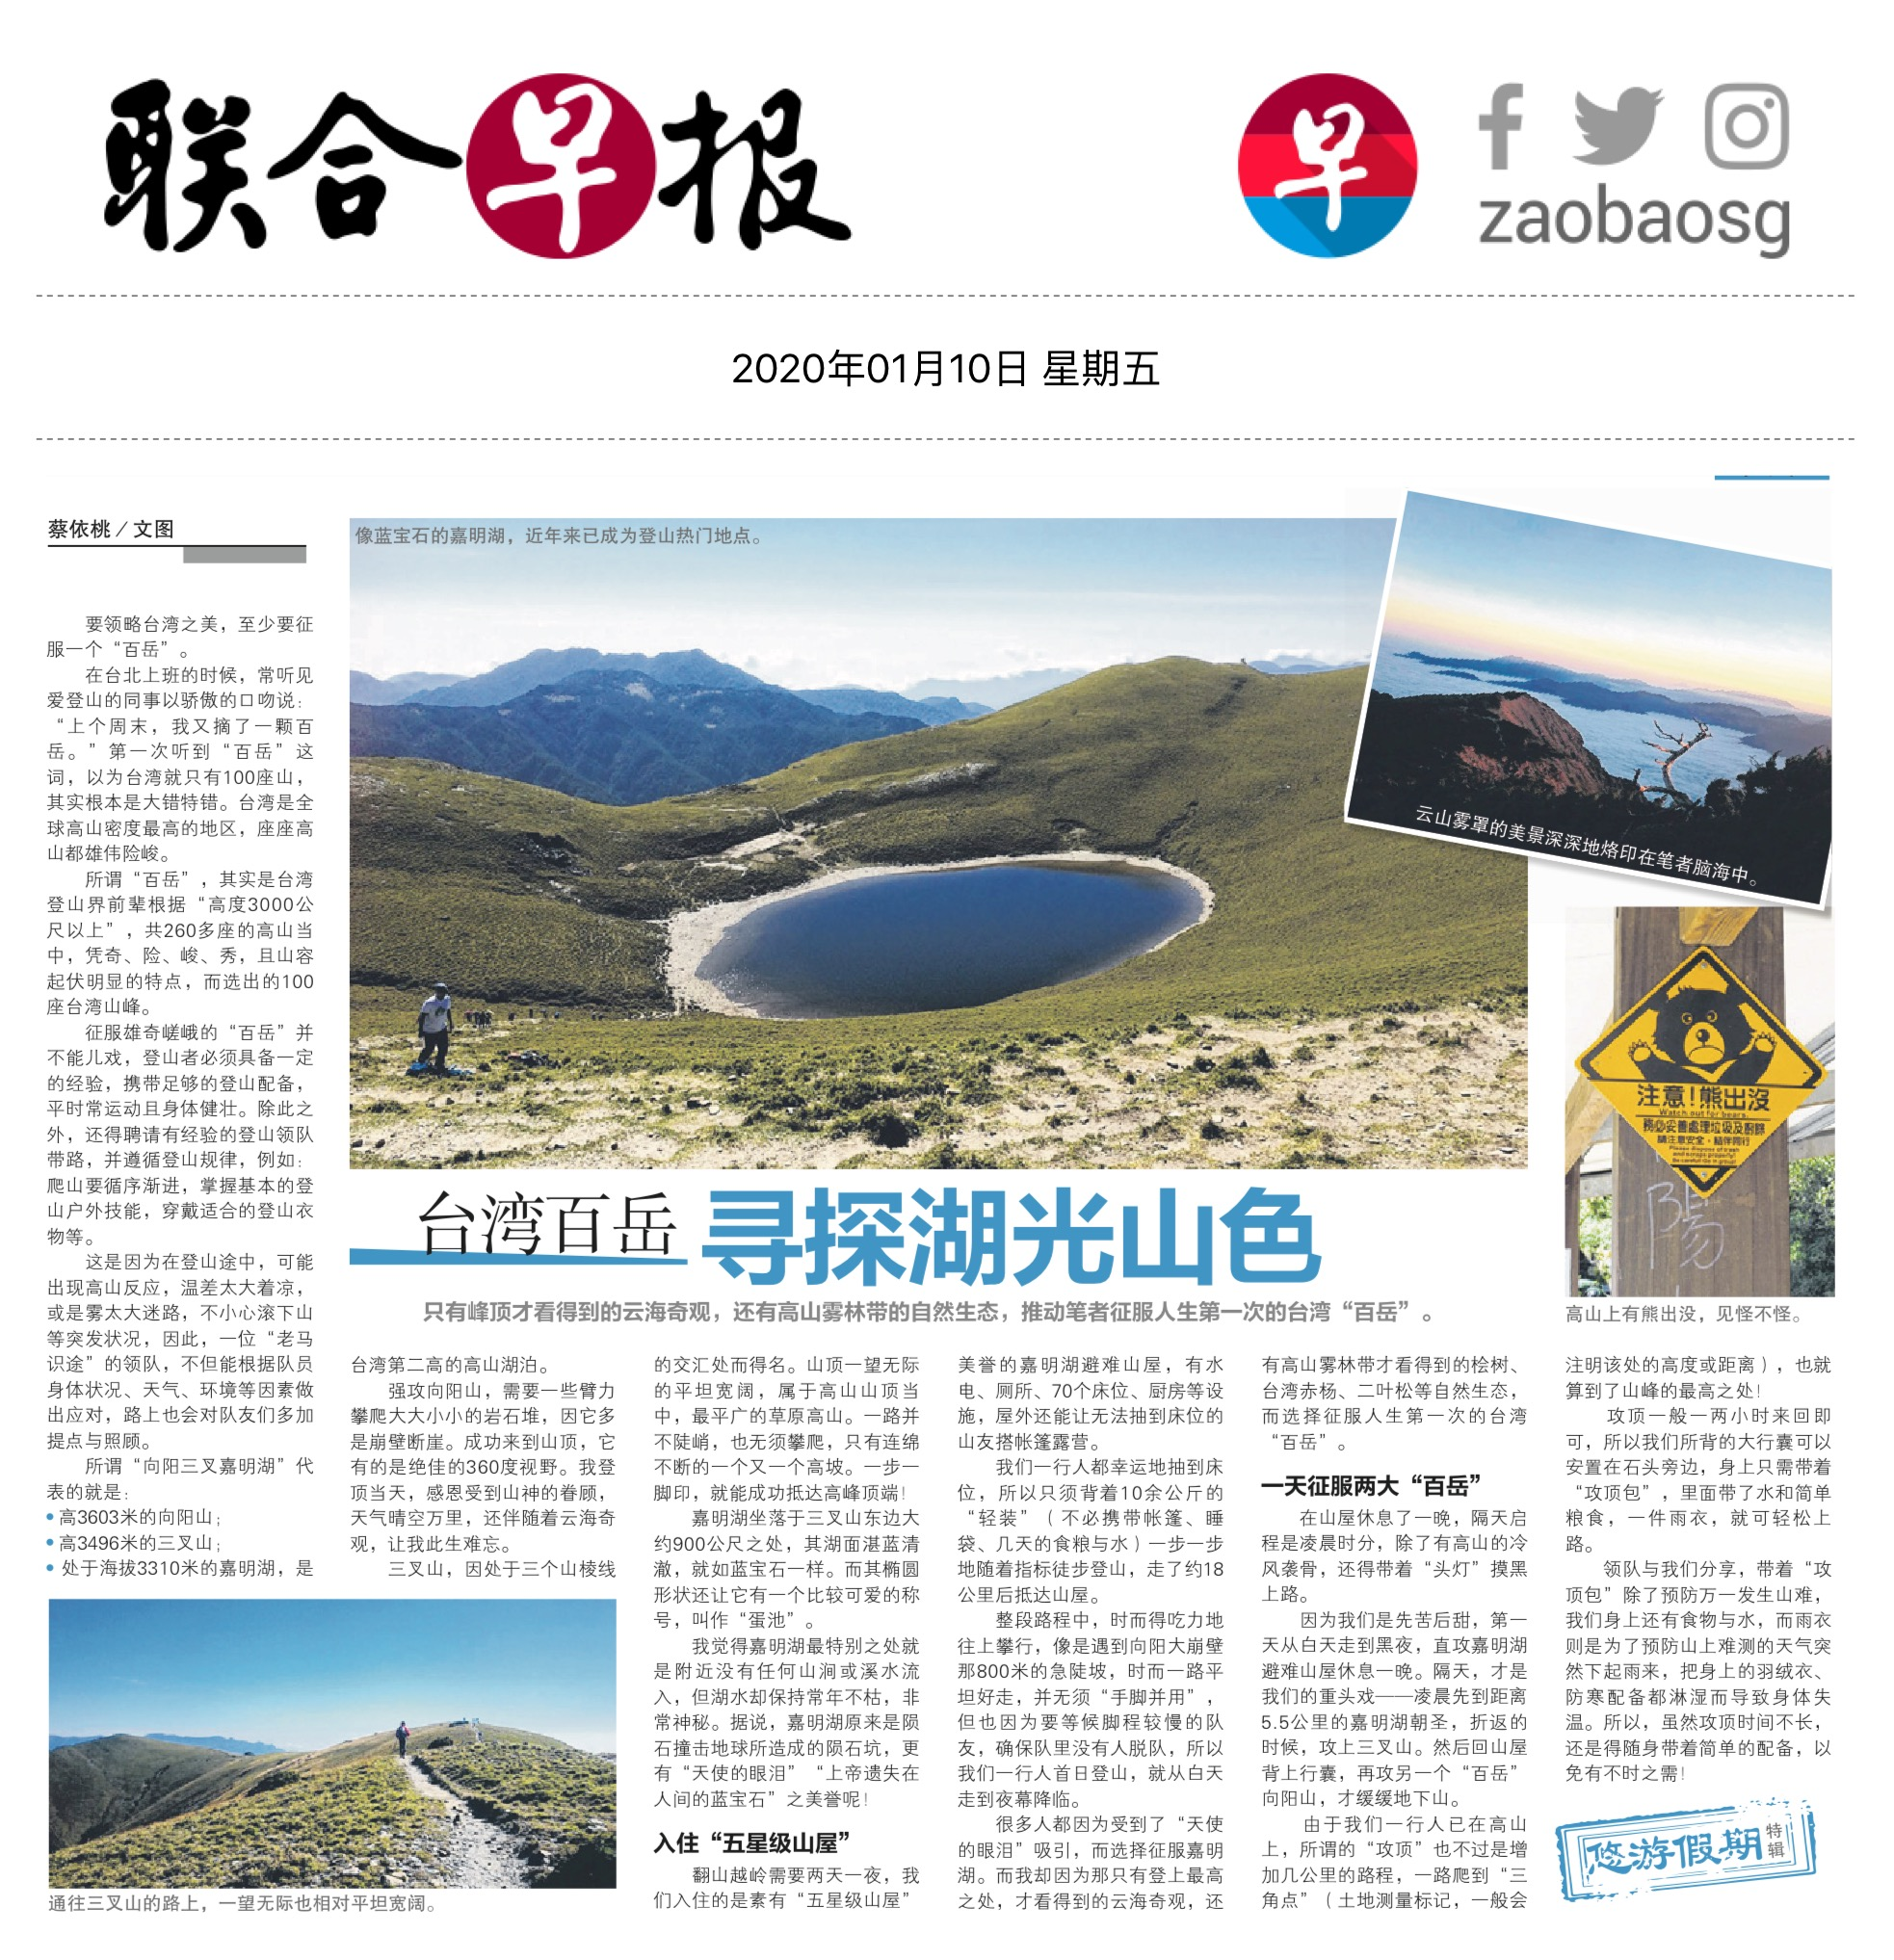heading: (695, 1183, 1329, 1293)
